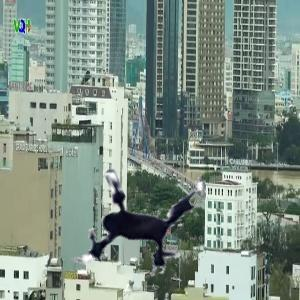drone: (50, 128, 222, 300)
